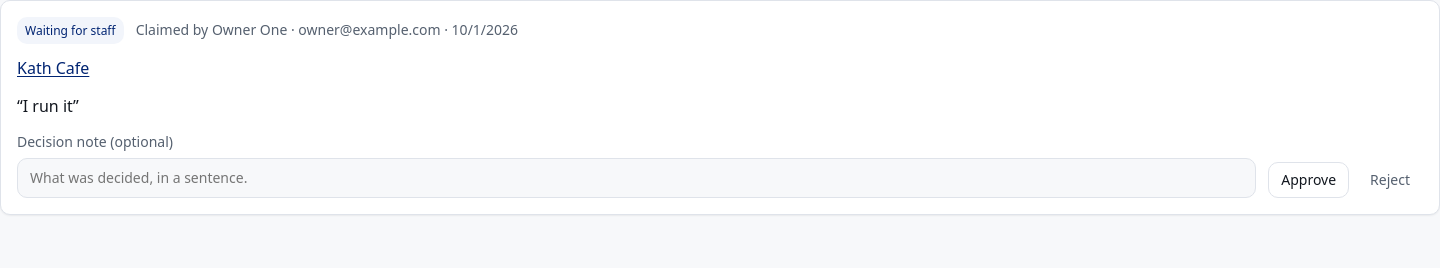
Test: ClaimQueueCard › reloads the queue when another moderator got there first
What coordinates should you click on to do the following:
click the button "Approve"
I would click on:
 (1309, 180)
Its box is [1268,162,1349,198].
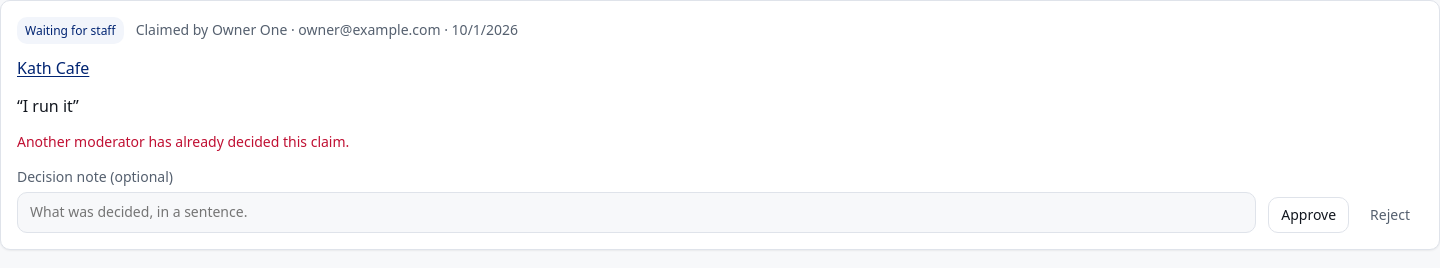
Check: the text "Another moderator has already decided this claim." is shown, box [17,132,349,151]
